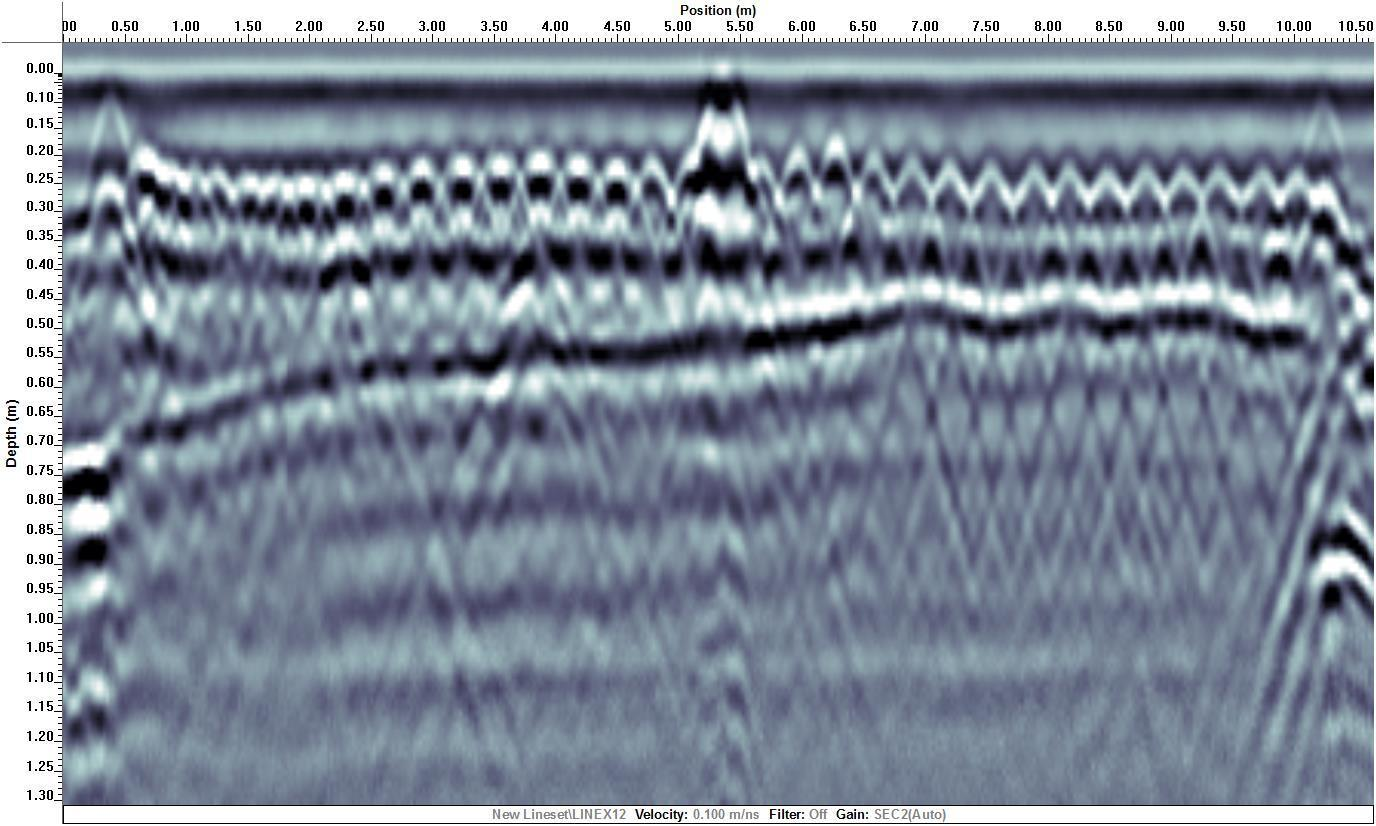hyperbola: (84, 97, 143, 290), (1197, 159, 1235, 279), (1242, 158, 1280, 278), (1168, 157, 1206, 277), (1129, 154, 1167, 274), (1088, 154, 1126, 274), (1053, 157, 1091, 277), (1015, 158, 1053, 278), (971, 157, 1009, 277), (928, 155, 966, 275), (894, 150, 932, 270), (860, 148, 898, 268), (818, 136, 856, 256), (779, 141, 817, 261), (636, 152, 674, 272), (597, 151, 635, 271), (563, 149, 601, 269), (484, 151, 522, 271), (523, 146, 561, 266), (444, 149, 482, 269), (406, 151, 444, 271), (366, 153, 404, 273), (327, 157, 365, 277)
